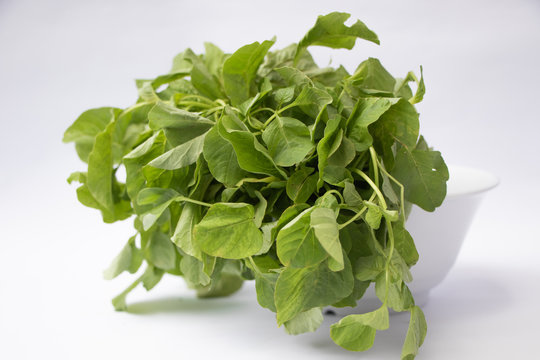Bayam: (51, 17, 453, 350)
